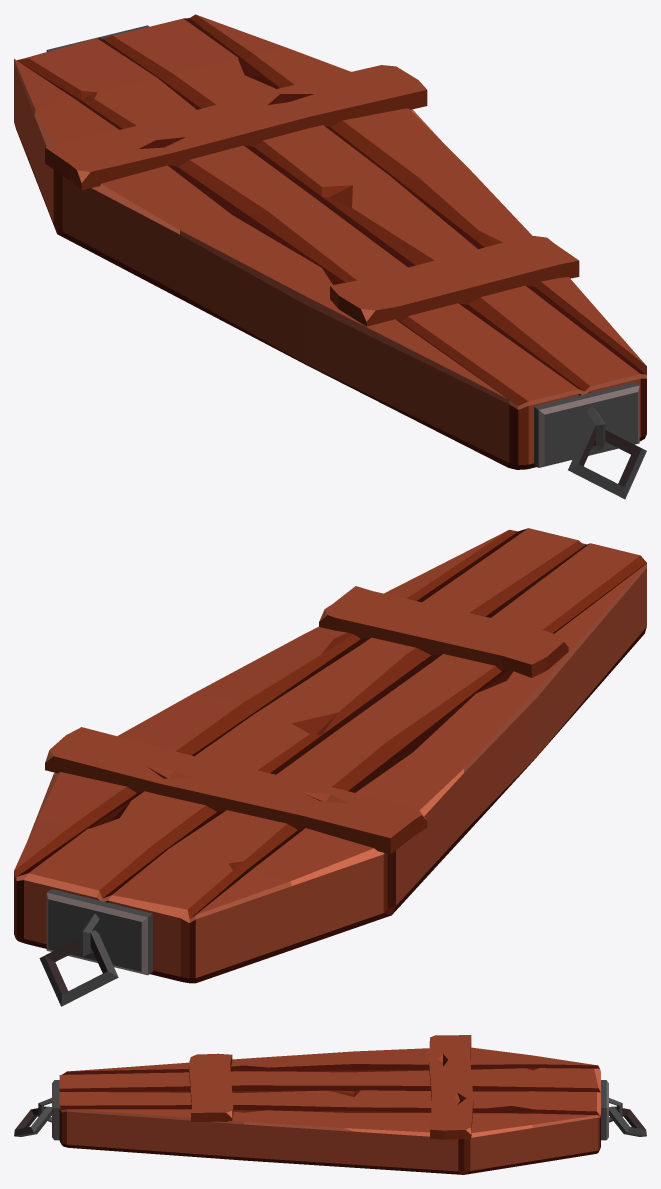
File: HWN20_CoffinTop.glb
3 views of the same model, one above another, from view 1: azimuth 30°, elevation 25°; view 2: azimuth 150°, elevation 25°; view 3: azimuth 270°, elevation 25° (orthographic). The views are drawn at different scales.
Parts seen in each view (by area): view 1: HWN20_CoffinTop; view 2: HWN20_CoffinTop; view 3: HWN20_CoffinTop.
Part boxes in pixels (bbox=[...]): HWN20_CoffinTop: bbox=[14, 14, 646, 499]; HWN20_CoffinTop: bbox=[14, 528, 646, 1006]; HWN20_CoffinTop: bbox=[14, 1035, 646, 1174].
Size of what is drawn, in the model's own units: 1.23 by 0.3286 by 3.44.
Materials: 1 (1 with a texture image).
